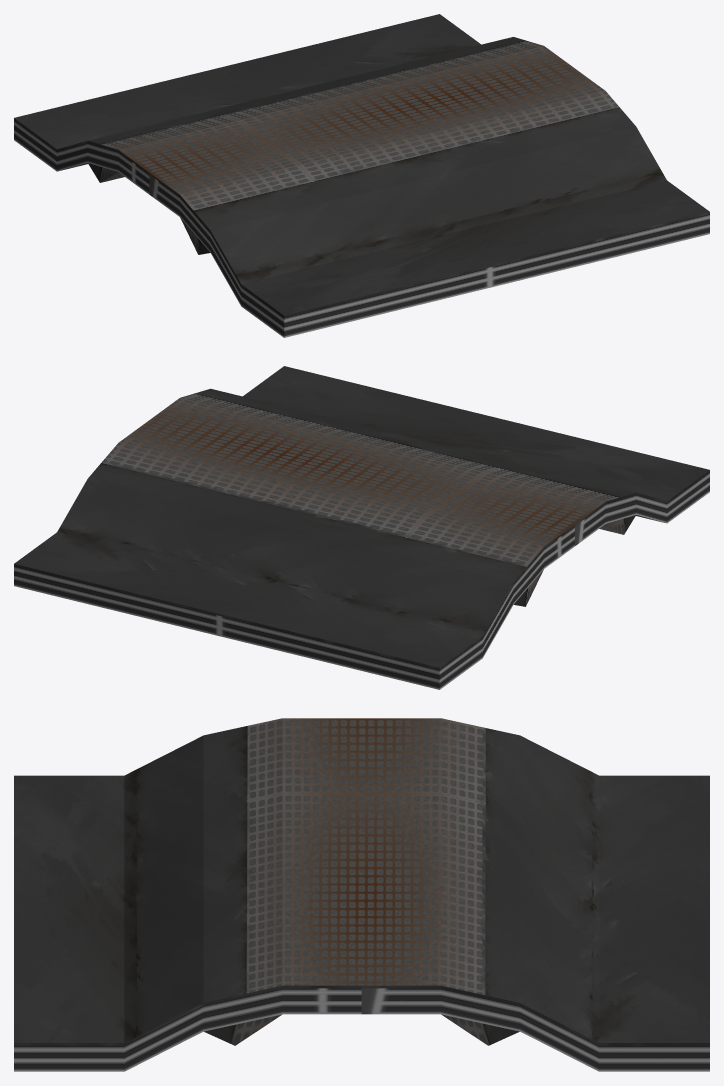
File: SM_Roof_B_Long.fbx
3 renders of one model, top to bottom at view 1: azimuth 30°, elevation 25°; view 2: azimuth 150°, elevation 25°; view 3: azimuth 270°, elevation 25°, orthographic. The views are drawn at different scales.
Visible parts, largest first — view 1: Roof_B_Long; view 2: Roof_B_Long; view 3: Roof_B_Long.
Boxes of the visible parts, left/top/right/bottom form: Roof_B_Long: left=14, top=14, right=709, bottom=337; Roof_B_Long: left=14, top=366, right=709, bottom=689; Roof_B_Long: left=14, top=718, right=709, bottom=1071.
Bounding box in the file's own units: 2 × 0.3 × 2.2.
